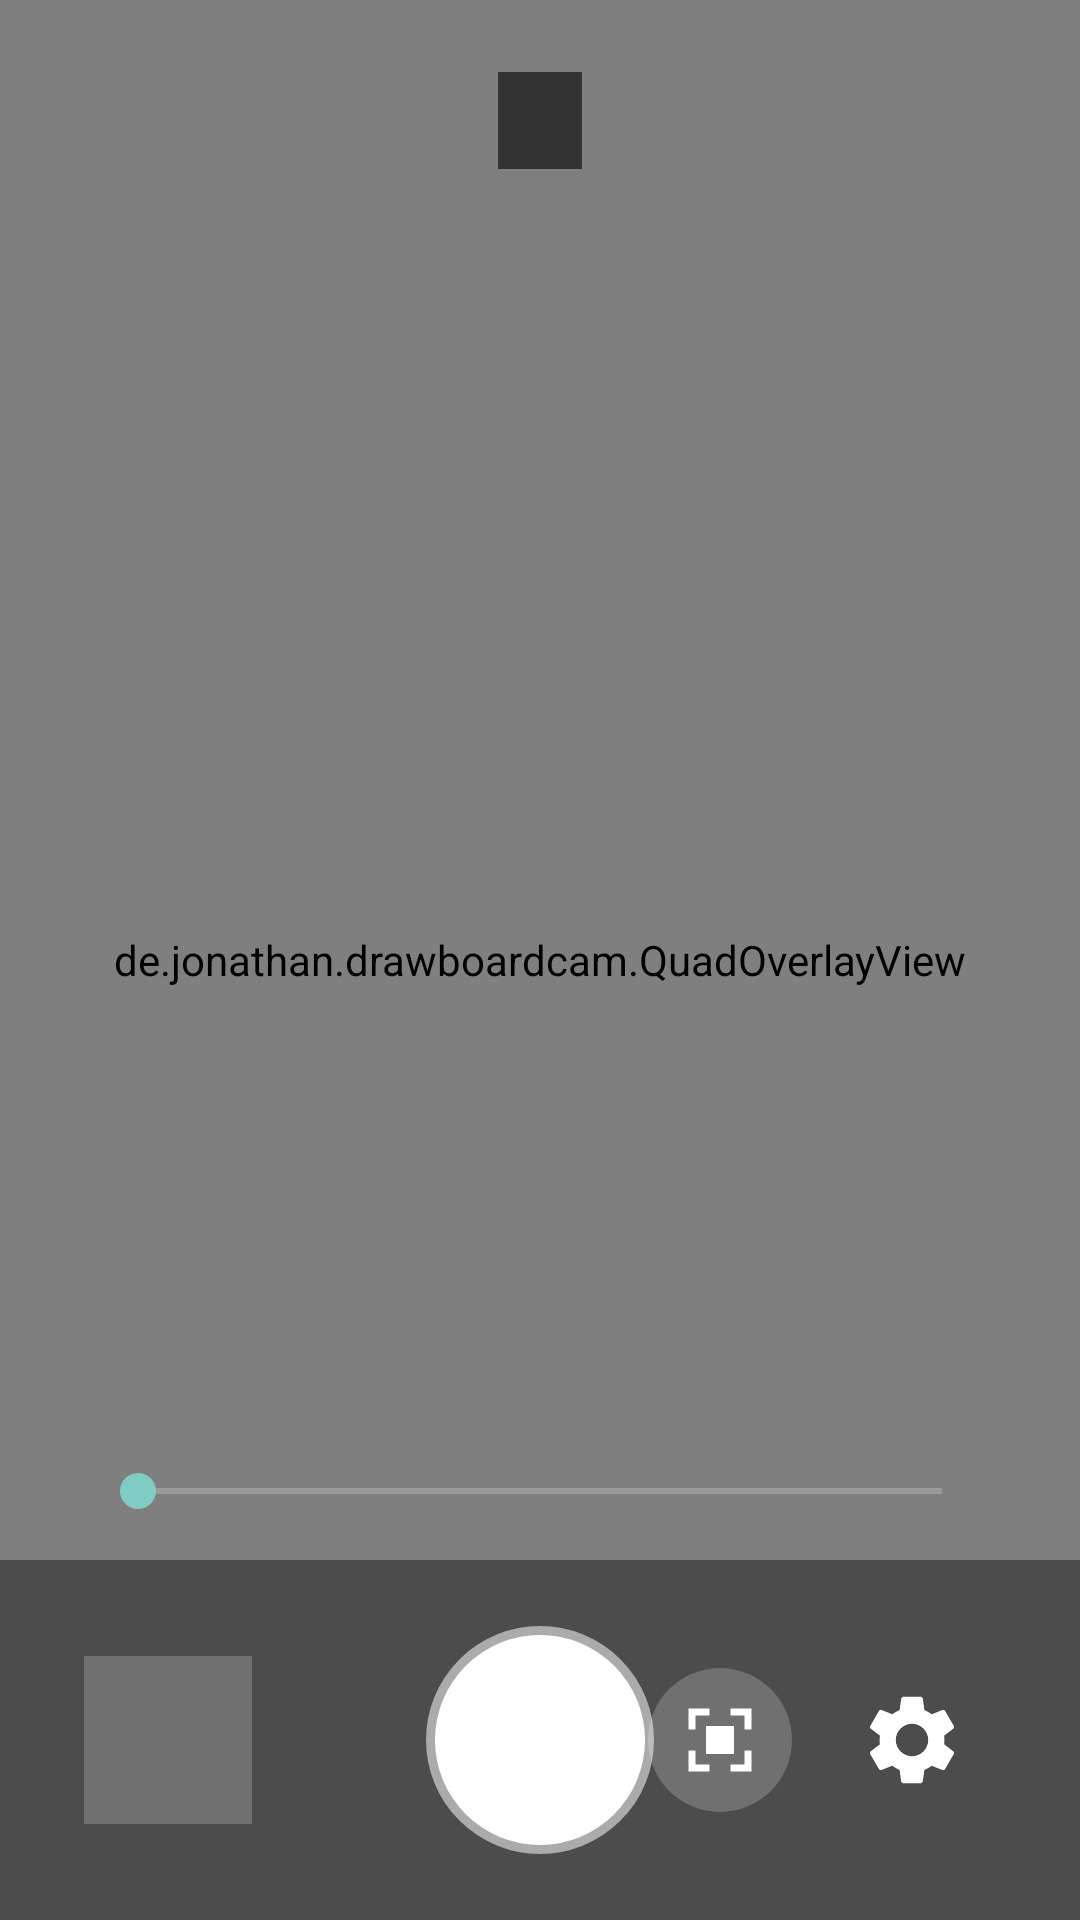

Locate icon controls on the screen. Image size 1080w x 1920h, boxes as (x1, y1, x2, y2).
Einstellungen: (870, 1696, 954, 1784)
Foto aufnehmen: (426, 1626, 654, 1854)
Tafel-/Folien-Scan an/aus: (648, 1668, 792, 1812)
